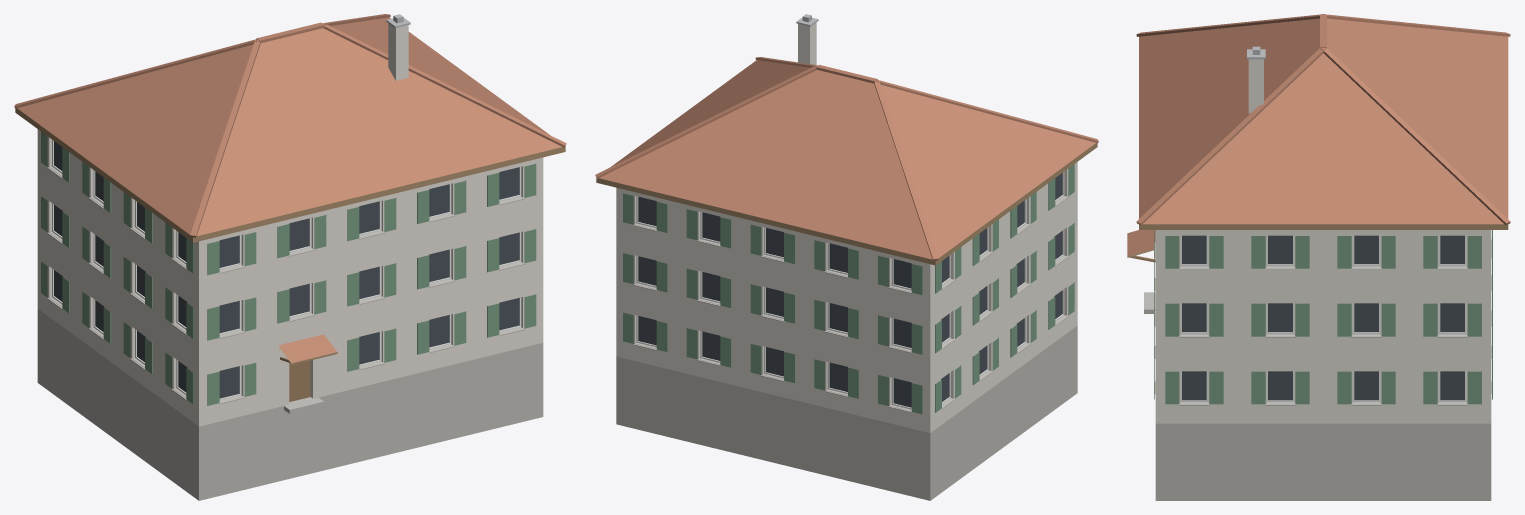
File: house_hipped_3_l.glb
The picture shows the model from 3 angles, left to right: view 1: azimuth 30°, elevation 25°; view 2: azimuth 150°, elevation 25°; view 3: azimuth 270°, elevation 25°; orthographic projection. The views are drawn at different scales.
Visible parts, largest first — view 1: house_hipped_3_l; view 2: house_hipped_3_l; view 3: house_hipped_3_l.
Boxes of the visible parts, <box> form: house_hipped_3_l: <box>14,14,566,500</box>; house_hipped_3_l: <box>595,14,1098,500</box>; house_hipped_3_l: <box>1127,14,1510,500</box>.
Bounding box in the file's own units: 17.5 × 17.25 × 14.85.
